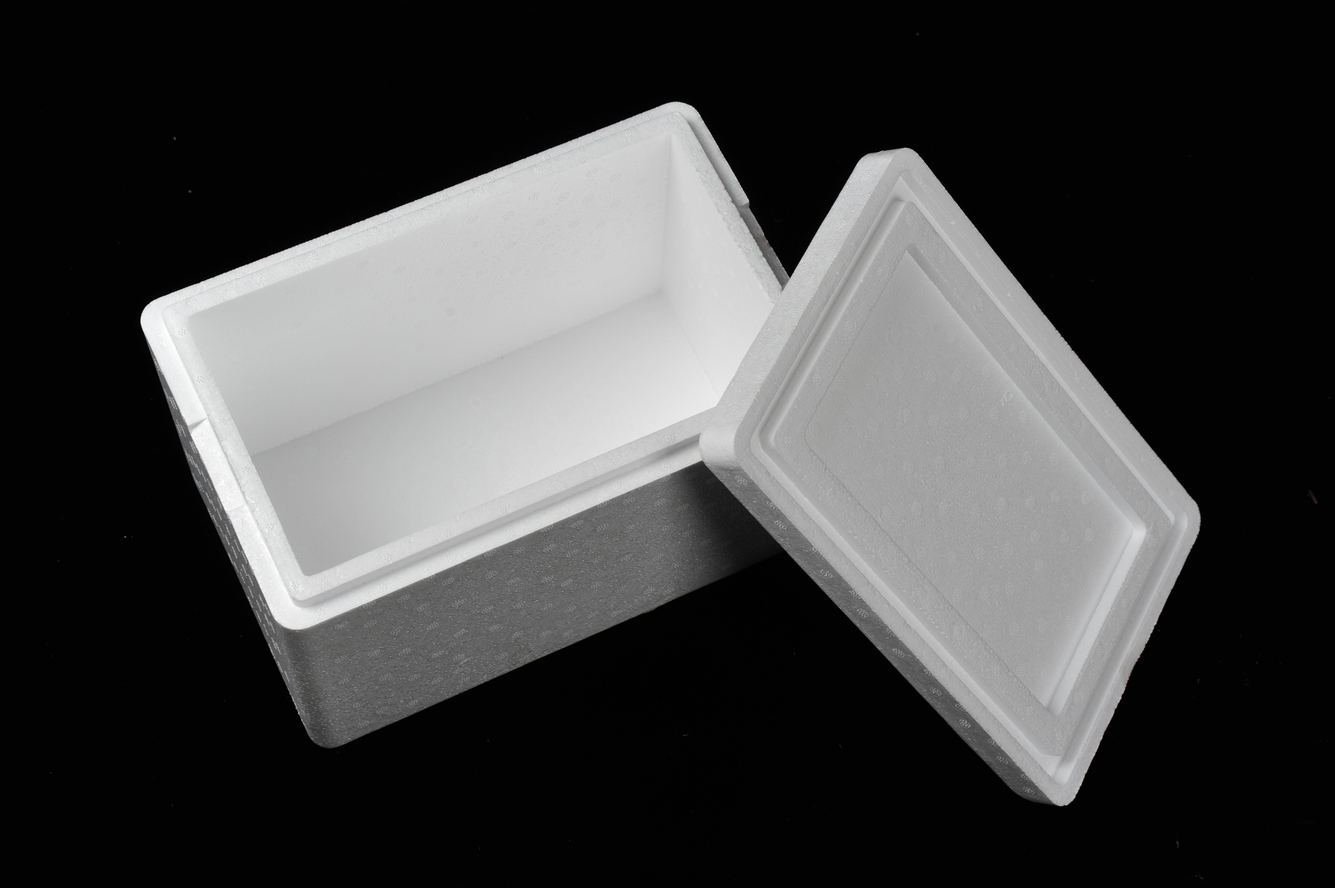Boxes: (143, 105, 1198, 804)
